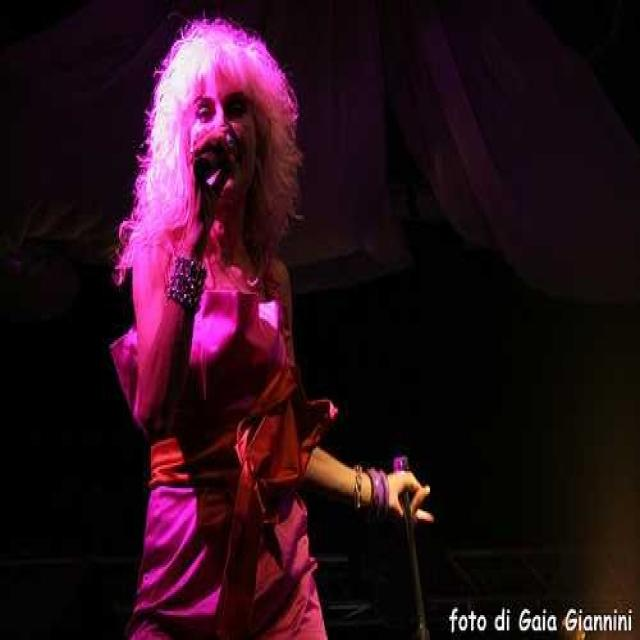microphone: (179, 129, 245, 224), (394, 452, 416, 516)
